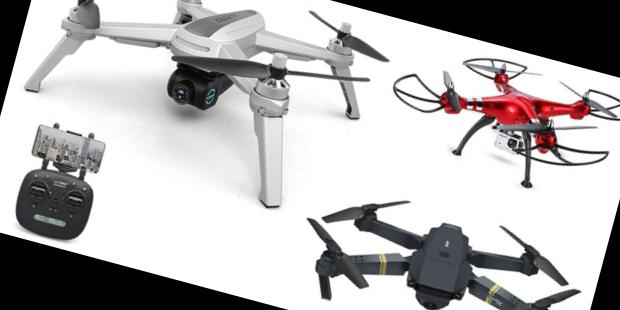drone: (30, 0, 399, 172), (280, 163, 600, 310), (375, 32, 620, 218)
